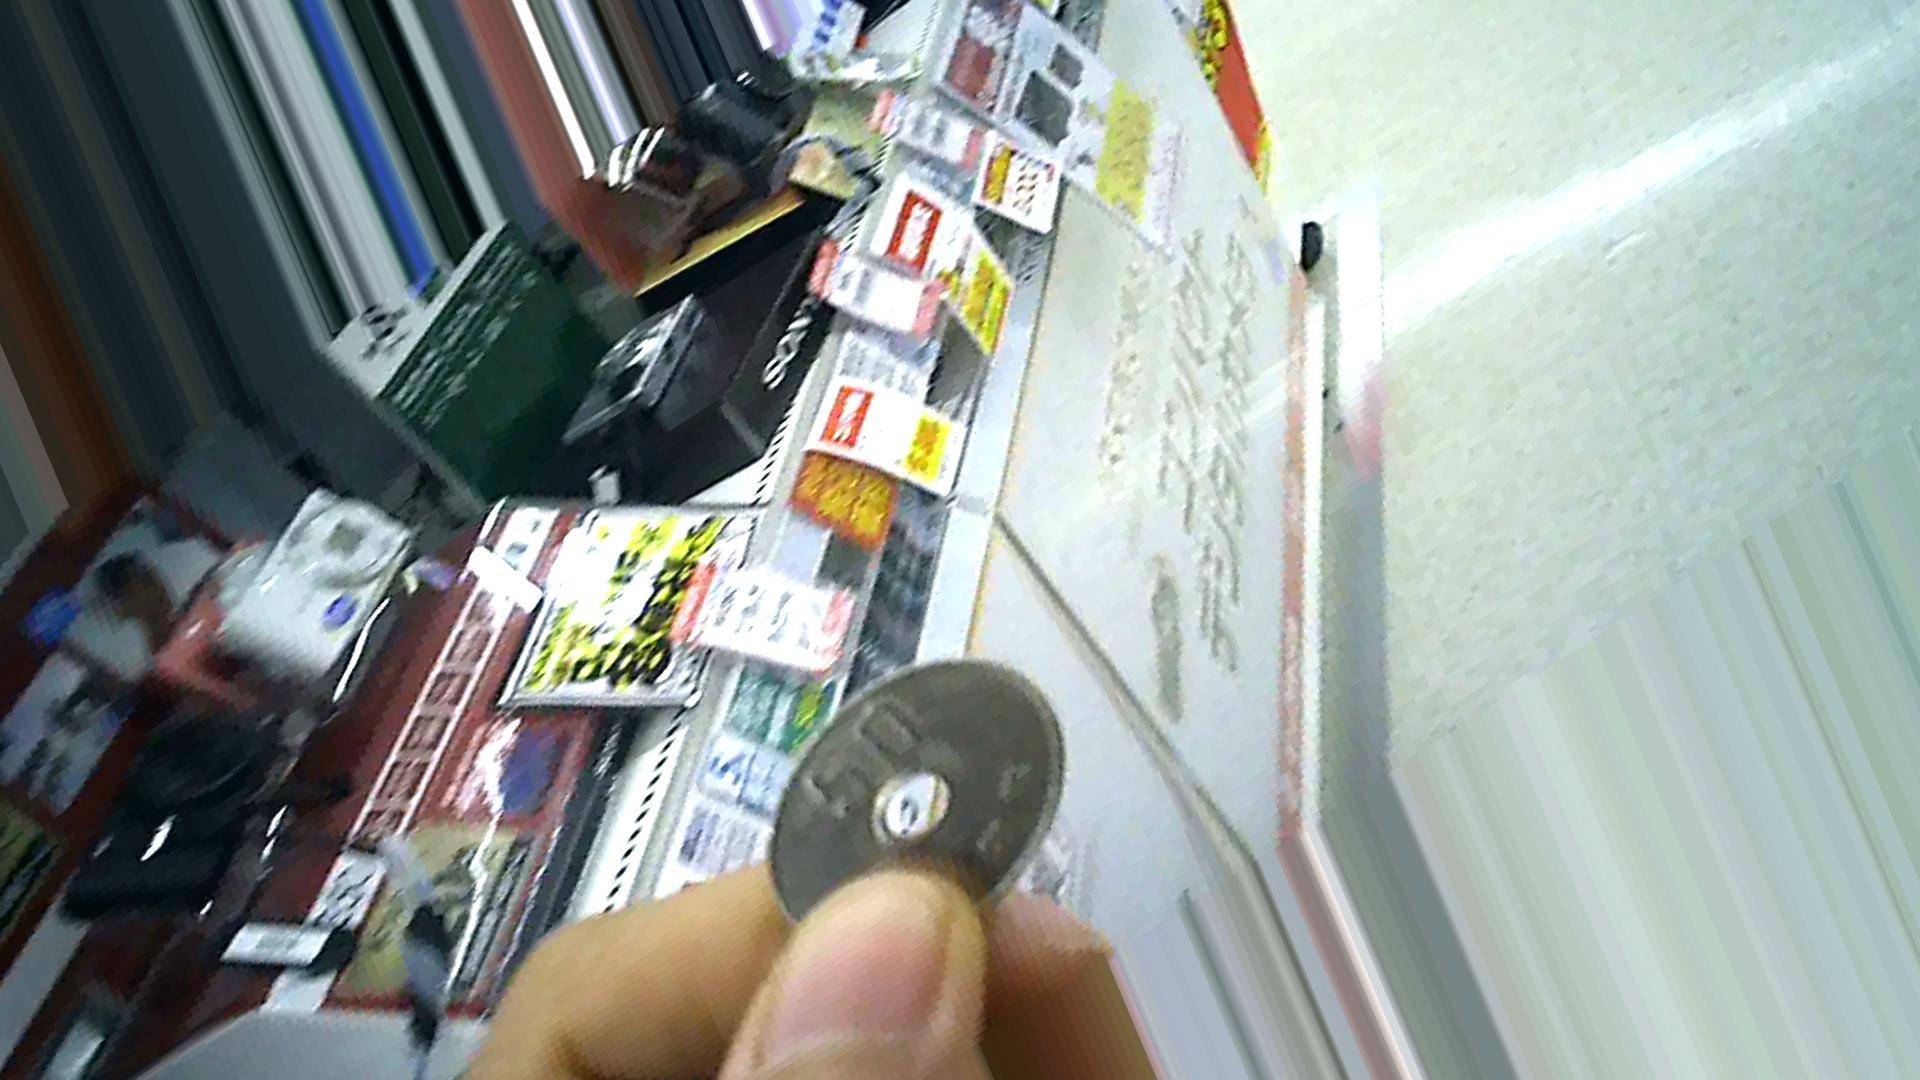50 Yen: (752, 658, 1060, 940)
